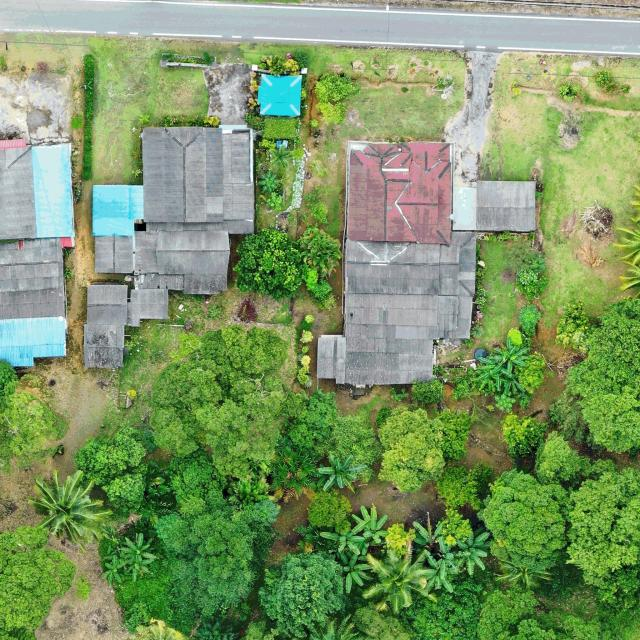Tree: (148, 325, 292, 480), (153, 501, 282, 626), (566, 296, 640, 456), (478, 468, 571, 567), (565, 466, 640, 588), (0, 525, 77, 640), (257, 550, 347, 632), (0, 357, 68, 459), (28, 468, 110, 544), (74, 431, 149, 512), (378, 405, 447, 493), (231, 226, 303, 298), (315, 406, 382, 482), (360, 546, 430, 615), (167, 450, 230, 518), (284, 389, 338, 448), (534, 429, 590, 484), (437, 460, 495, 510), (295, 227, 342, 276), (501, 412, 549, 459), (316, 450, 368, 490), (555, 298, 592, 352), (454, 527, 494, 576), (421, 548, 463, 594), (348, 502, 393, 544), (436, 408, 473, 459), (308, 489, 352, 529), (515, 251, 549, 301), (434, 507, 474, 549), (412, 512, 450, 550), (333, 551, 369, 591), (315, 72, 361, 102), (492, 339, 530, 374), (320, 527, 366, 555), (119, 533, 158, 563), (382, 522, 415, 556), (411, 377, 445, 406), (99, 555, 128, 587), (470, 369, 508, 393), (125, 553, 155, 583), (518, 303, 542, 338), (316, 100, 348, 125), (478, 354, 513, 376), (492, 372, 524, 396), (269, 145, 292, 168), (258, 171, 280, 193)
